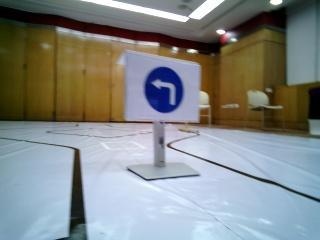left: (132, 57, 201, 122)
